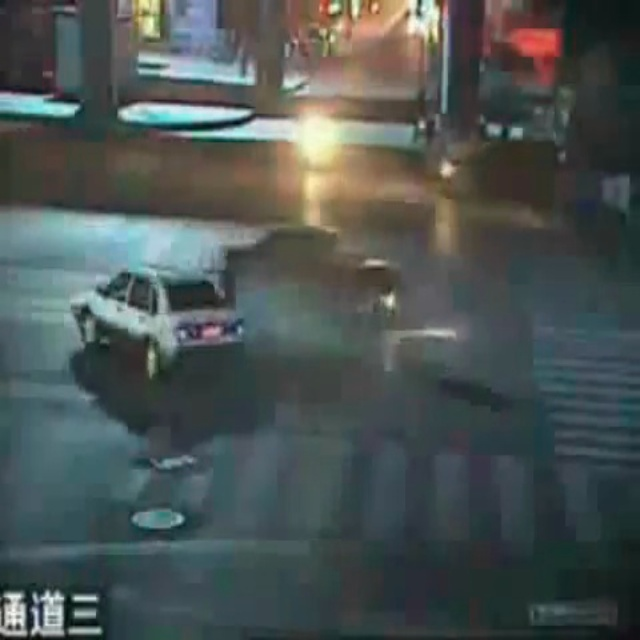acc: (50, 196, 393, 404)
